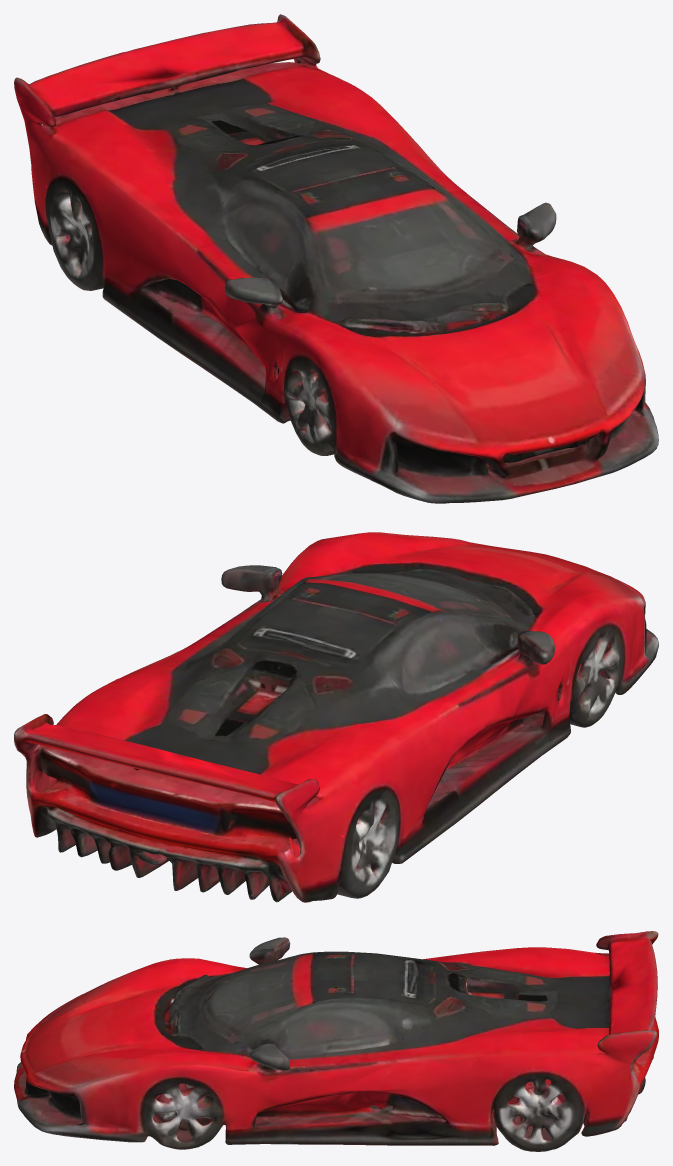
File: ferrari.glb
The picture shows the model from 3 angles, top to bottom: view 1: azimuth 30°, elevation 25°; view 2: azimuth 150°, elevation 25°; view 3: azimuth 270°, elevation 25°; orthographic projection. The views are drawn at different scales.
Size of the model in its own units: 0.903 by 0.4271 by 2.
Materials: 1 (1 with a texture image).
